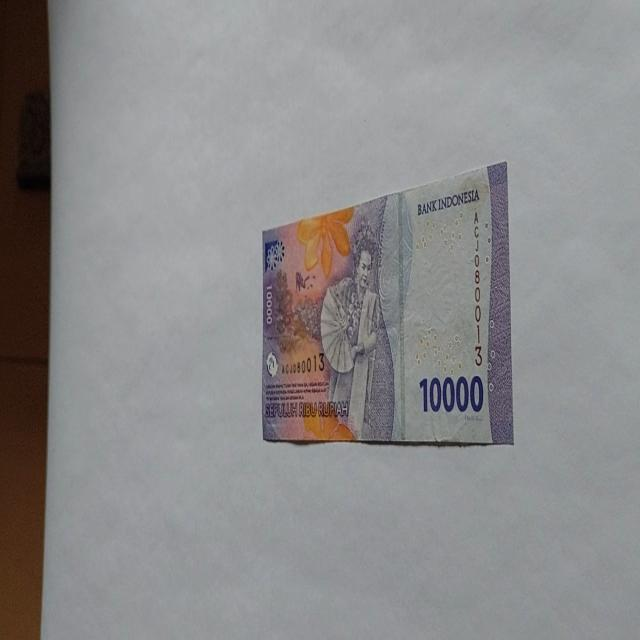sepuluh ribu rupiah: (260, 158, 514, 447), (416, 186, 480, 217)
